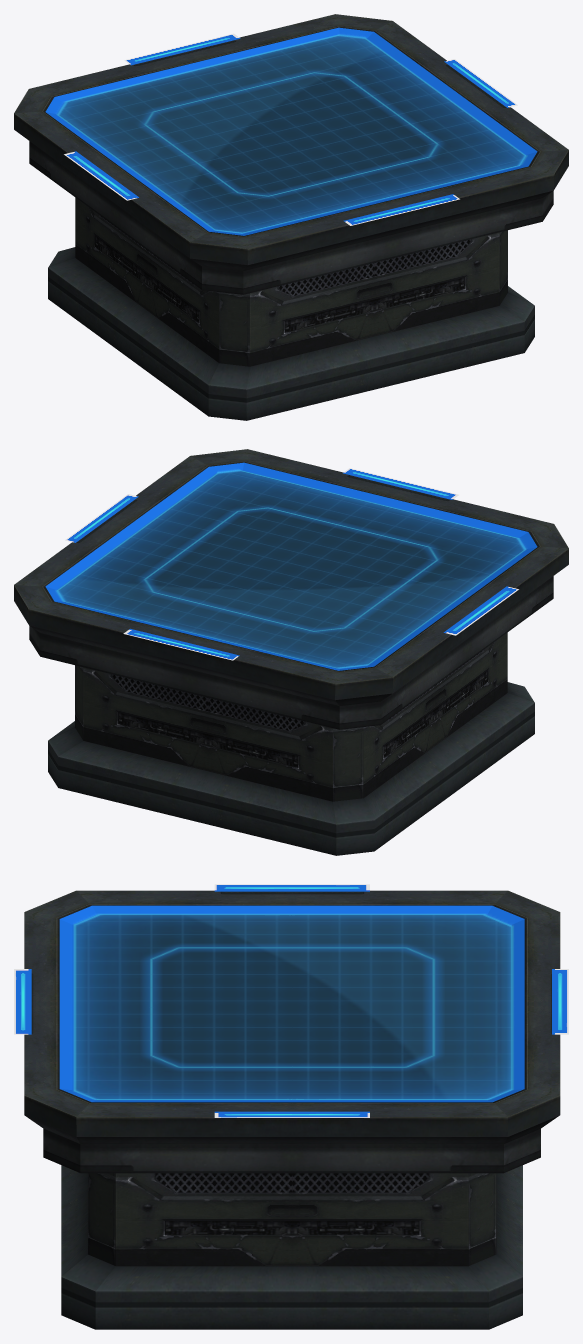
The model's file is ts_mjtsobj.FBX.
The picture shows the model from 3 angles, top to bottom: view 1: azimuth 30°, elevation 25°; view 2: azimuth 150°, elevation 25°; view 3: azimuth 270°, elevation 25°; orthographic projection. The views are drawn at different scales.
Visible parts, largest first — view 1: tx_mjobj001, tx_mjdg001; view 2: tx_mjobj001, tx_mjdg001, tx_mjobj003; view 3: tx_mjobj001, tx_mjdg001.
Part boxes in pixels (x1,y1,x2,y2): tx_mjobj001: [14, 14, 568, 420]; tx_mjdg001: [45, 27, 537, 235]; tx_mjobj001: [14, 449, 568, 855]; tx_mjdg001: [45, 462, 537, 670]; tx_mjobj003: [16, 450, 568, 839]; tx_mjobj001: [24, 890, 560, 1329]; tx_mjdg001: [14, 884, 568, 1117].
Size of the model in its own units: 3.31 by 1.52 by 3.32.
Materials: 2 (2 with a texture image).
